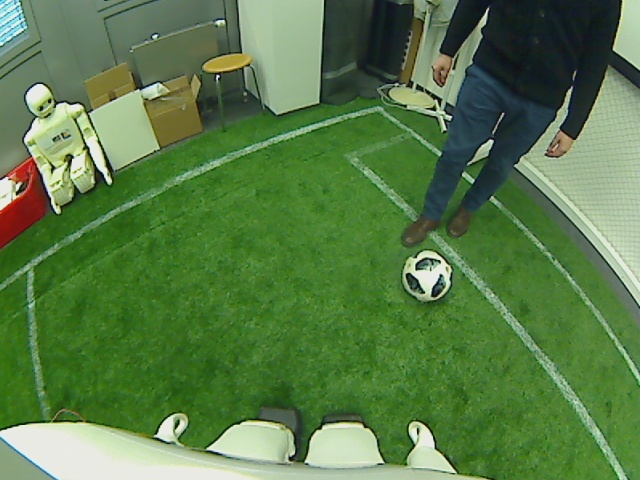ball: (400, 248, 453, 303)
